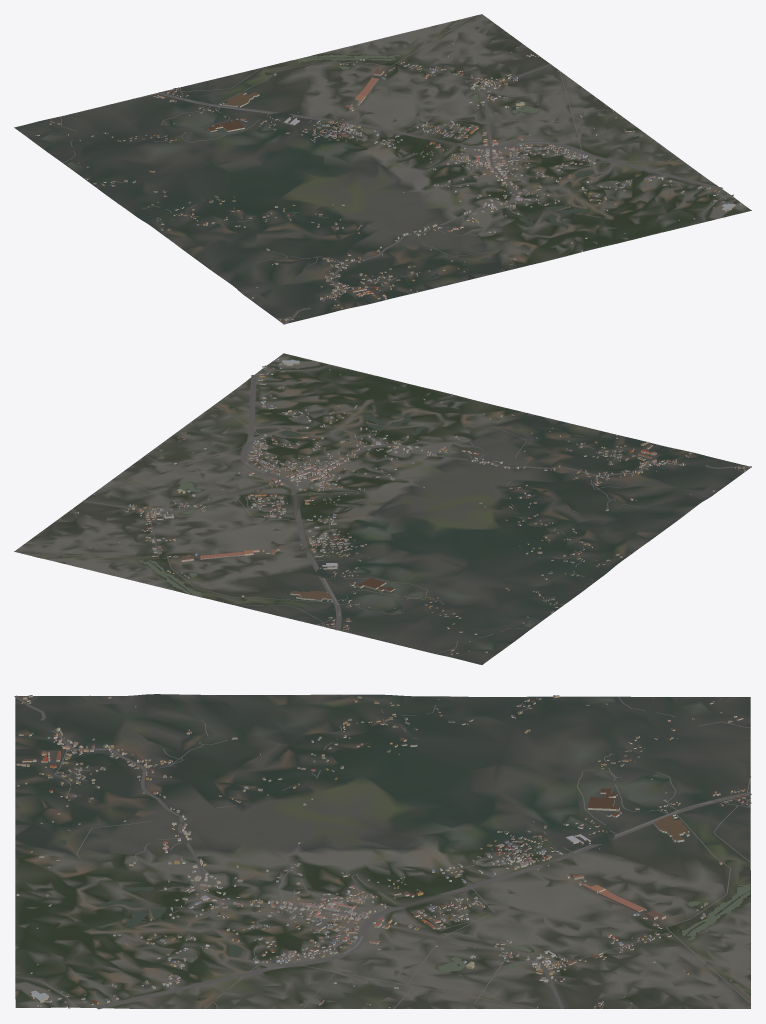
3 views of the same model, one above another, from view 1: azimuth 30°, elevation 25°; view 2: azimuth 150°, elevation 25°; view 3: azimuth 270°, elevation 25° (orthographic). The views are drawn at different scales.
Visible parts, largest first — view 1: ground, buildings, roads, water; view 2: ground, buildings, roads, water; view 3: ground, buildings, roads, water.
Boxes of the visible parts, left/top/right/bottom form: ground: left=14, top=14, right=751, bottom=323; buildings: left=35, top=42, right=741, bottom=321; roads: left=59, top=16, right=730, bottom=324; water: left=223, top=20, right=670, bottom=260; ground: left=14, top=353, right=750, bottom=664; buildings: left=65, top=358, right=745, bottom=654; roads: left=22, top=367, right=751, bottom=654; water: left=38, top=407, right=619, bottom=604; ground: left=15, top=694, right=750, bottom=1008; buildings: left=16, top=695, right=751, bottom=1008; roads: left=14, top=695, right=751, bottom=1009; water: left=57, top=739, right=750, bottom=1000.
Size of the model in its own units: 2824 by 32.75 by 2813.
